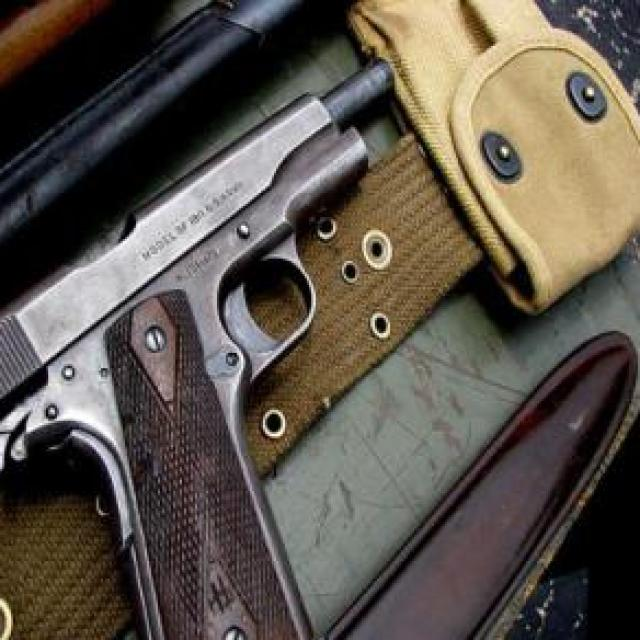pistol: (0, 57, 399, 640)
